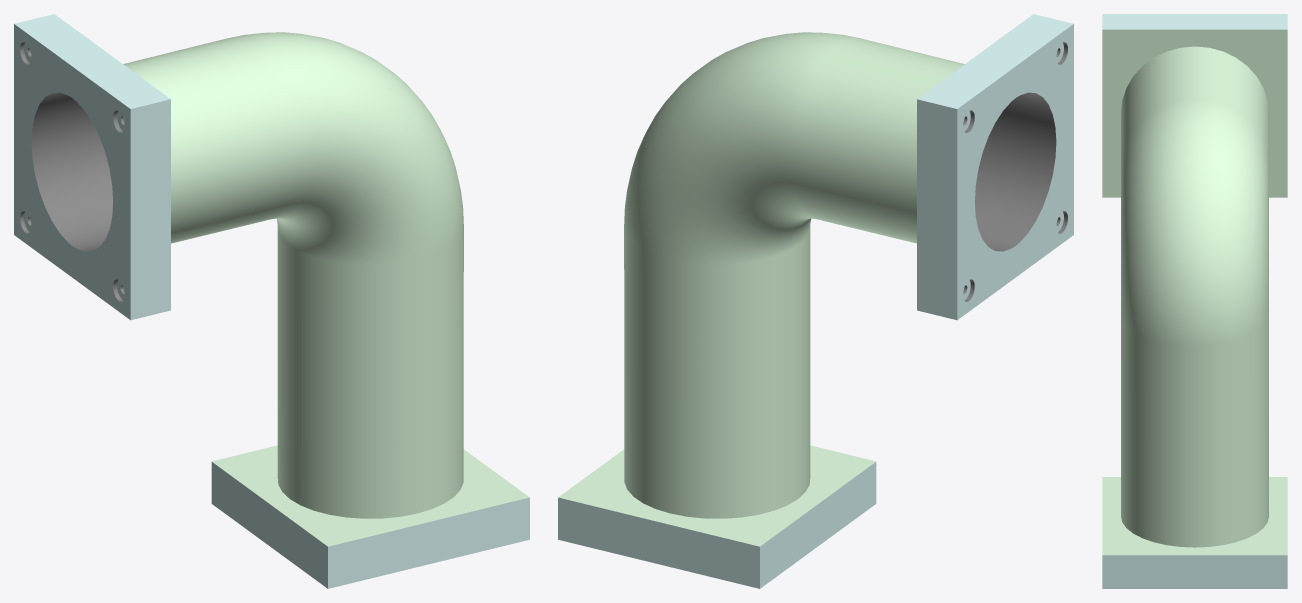
File: Flanged Elbow.glb
The picture shows the model from 3 angles, left to right: view 1: azimuth 30°, elevation 25°; view 2: azimuth 150°, elevation 25°; view 3: azimuth 270°, elevation 25°; orthographic projection. The views are drawn at different scales.
Parts seen in each view (by area): view 1: Part59.SLDPRT; view 2: Part59.SLDPRT; view 3: Part59.SLDPRT.
Part boxes in pixels (x1,y1,x2,y2): Part59.SLDPRT: [14, 14, 529, 588]; Part59.SLDPRT: [558, 14, 1073, 588]; Part59.SLDPRT: [1102, 14, 1287, 588].
Size of the model in its own units: 0.0989 by 0.125 by 0.05.
